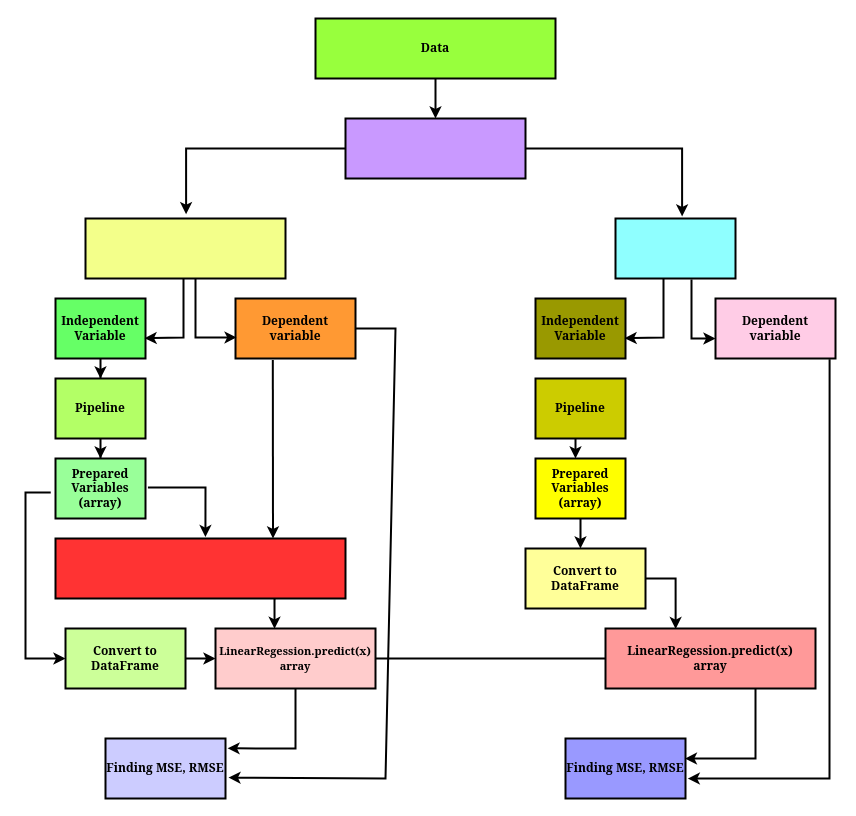
The diagram is 856 pixels wide and 816 high, and some of its shapes have lost their labels. Each missing label, with the box of its shape:
LinearRegrssion.fit(prepared, dependent): (54, 537, 346, 599)
Test Set: (614, 217, 736, 279)
Train Set: (84, 217, 286, 279)
Visualize: (344, 117, 526, 179)
